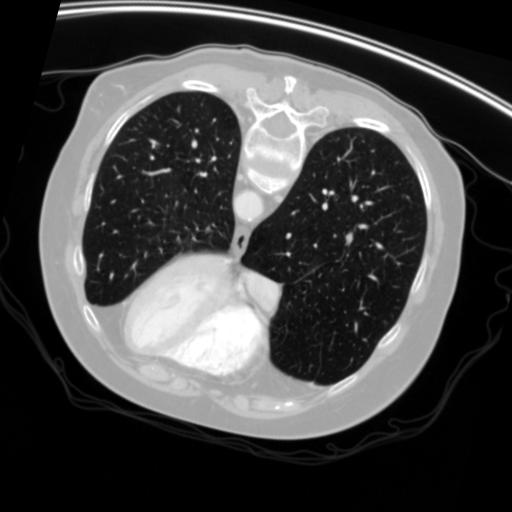nodule: (342, 231, 358, 247)
